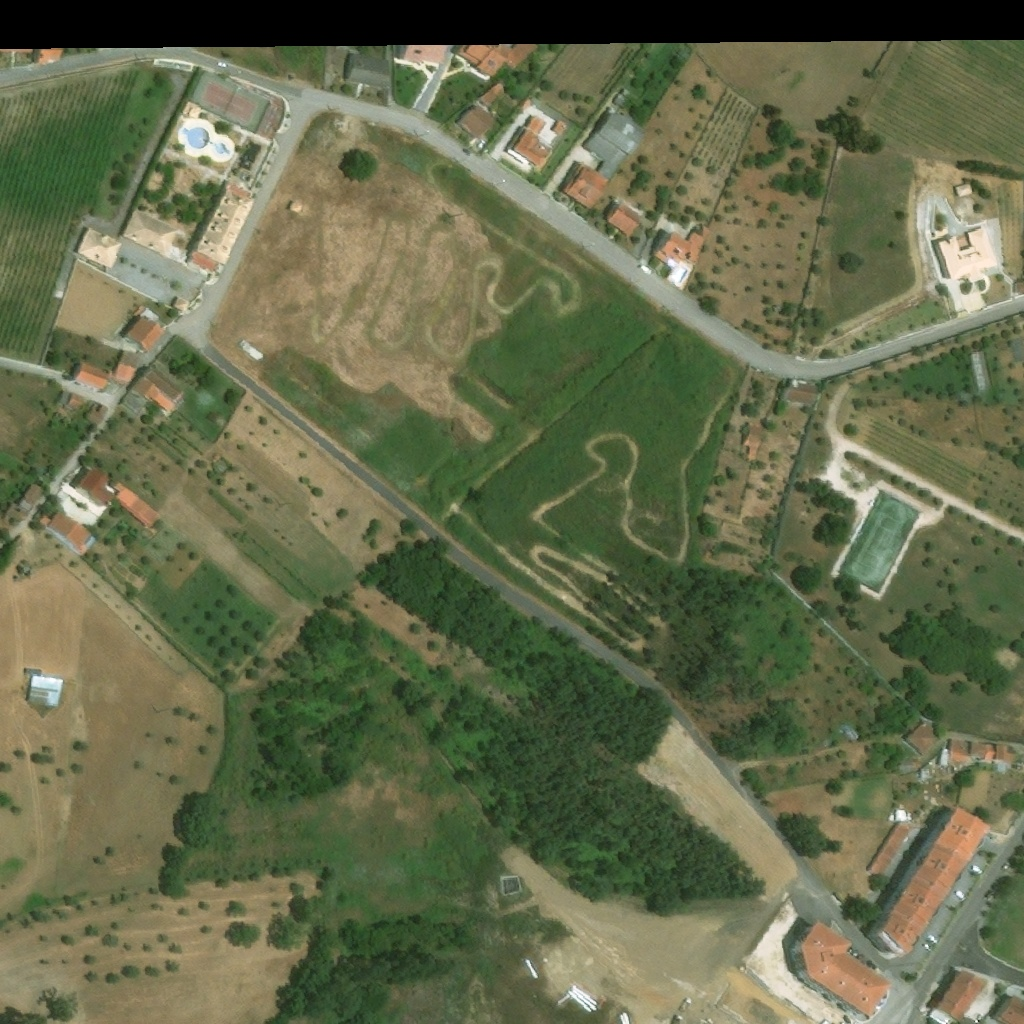0 no-damage: (862, 804, 991, 957), (789, 918, 895, 1023), (185, 180, 256, 274), (581, 106, 649, 180), (925, 960, 988, 1023), (933, 225, 1001, 280), (452, 37, 539, 79), (123, 209, 180, 258), (131, 367, 187, 416), (559, 161, 612, 211), (37, 510, 93, 557), (651, 227, 710, 271), (508, 114, 556, 168), (112, 480, 163, 529), (868, 822, 914, 876), (119, 302, 165, 351), (67, 464, 116, 506), (78, 226, 124, 268), (5, 481, 47, 524), (343, 52, 390, 88), (604, 197, 644, 238), (398, 38, 452, 66), (458, 106, 498, 138), (901, 717, 936, 751), (27, 673, 63, 705), (778, 380, 819, 406), (989, 992, 1023, 1023), (74, 362, 110, 389), (940, 738, 967, 772), (478, 78, 509, 106), (110, 359, 138, 386), (55, 386, 84, 411), (743, 423, 762, 460), (83, 400, 110, 426), (120, 390, 147, 415), (969, 742, 995, 760), (613, 88, 633, 108), (842, 723, 862, 743), (995, 744, 1016, 761), (171, 295, 190, 312), (956, 182, 974, 198), (552, 119, 568, 136), (519, 96, 533, 112), (895, 810, 912, 821), (921, 769, 930, 777)
4 un-classified: (34, 41, 79, 64), (0, 42, 41, 53), (719, 1005, 744, 1023), (107, 41, 148, 48), (1014, 280, 1023, 293)
